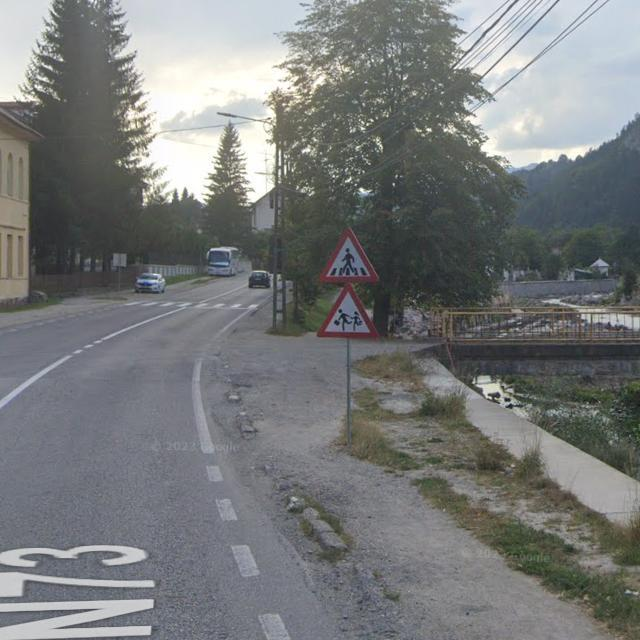warn_crosswalk: (319, 225, 381, 283)
